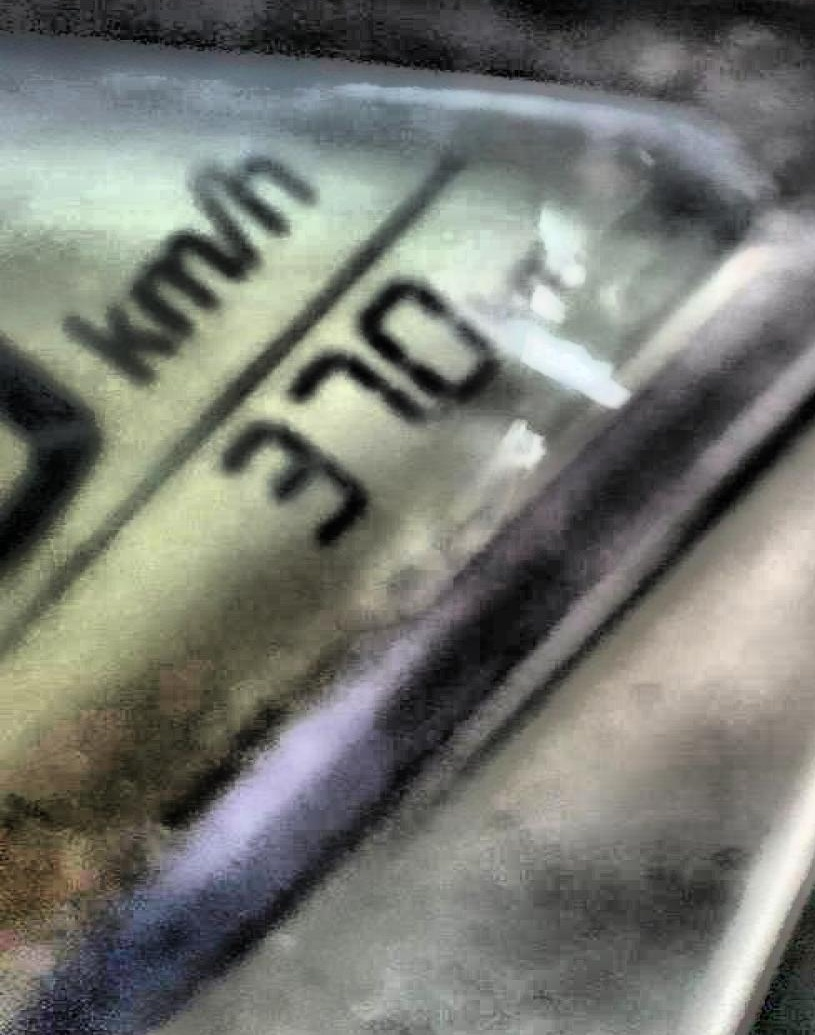0: (351, 275, 498, 404)
3: (215, 417, 365, 542)
7: (280, 345, 426, 432)
X: (128, 240, 238, 331), (195, 148, 310, 233), (58, 306, 168, 381), (181, 182, 260, 259)
